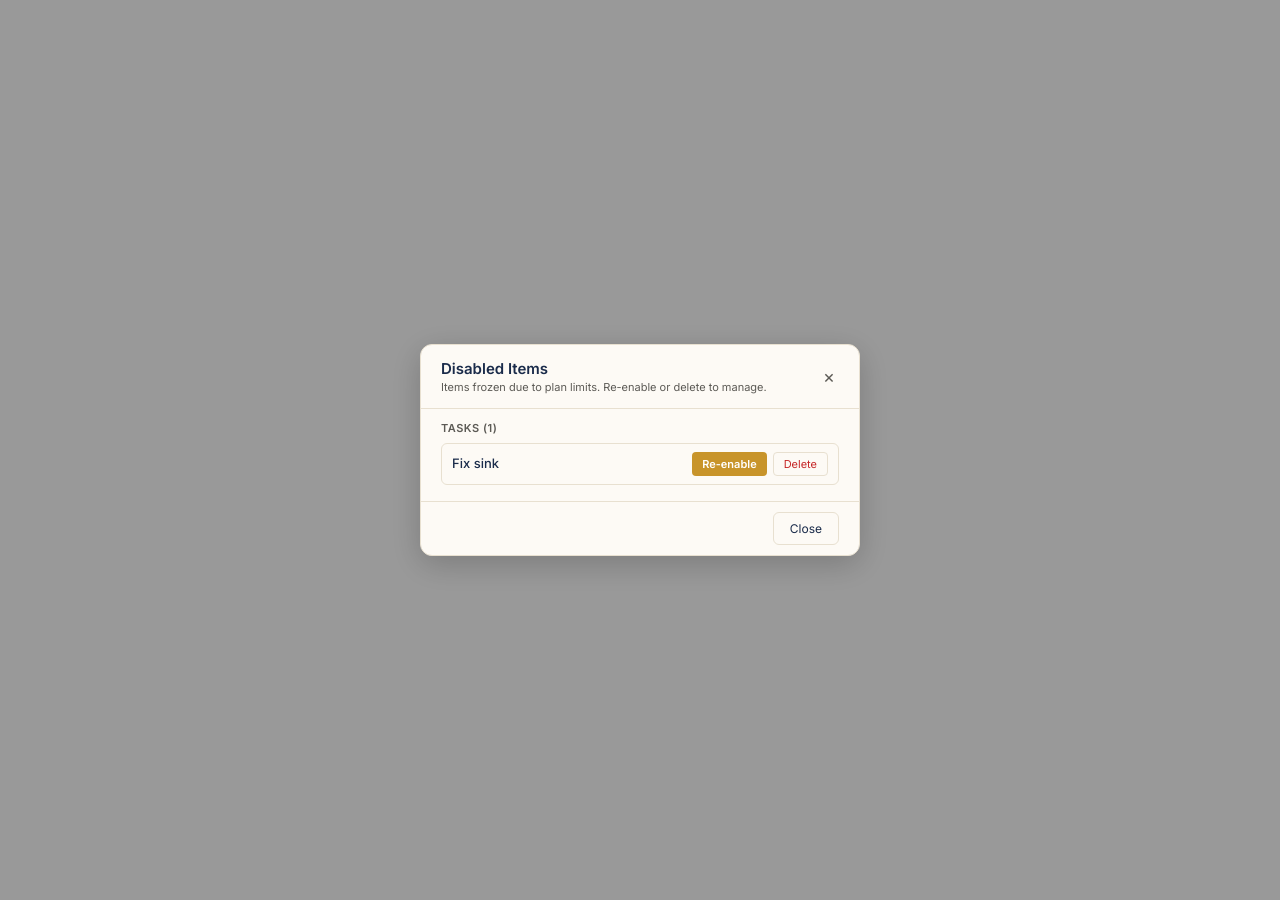
Test case: DisabledItemsPanel › cancelling the ConfirmDialog does not delete
Check: the text "Fix sink" is shown, box [452,455,499,471]
Click the button "Delete": [800, 464] box [773,452,828,476]
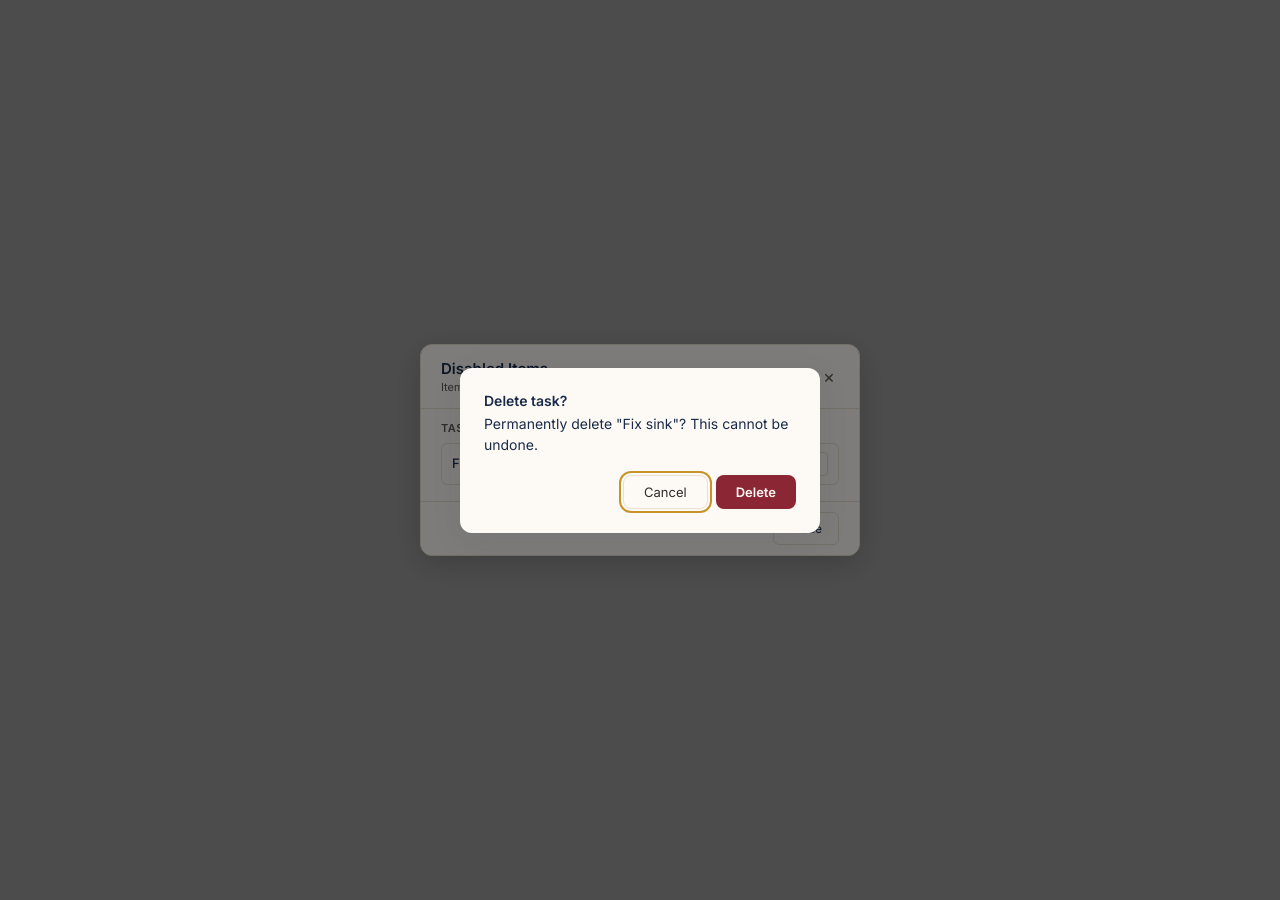
Click the button "Cancel": [665, 492] box [623,474,708,508]
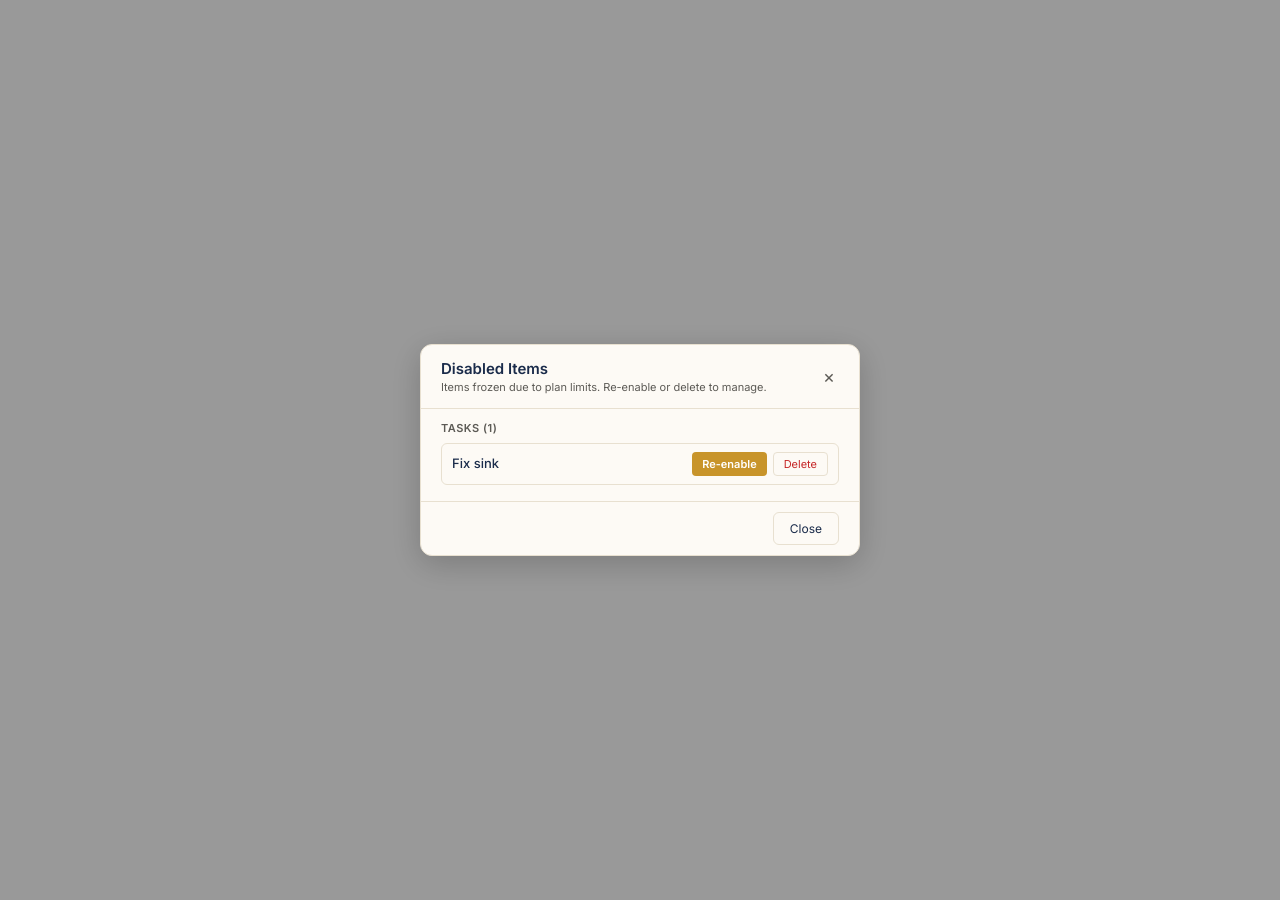
Check: the text "Fix sink" is shown, box [452,455,499,471]
Check: the dialog is gone
